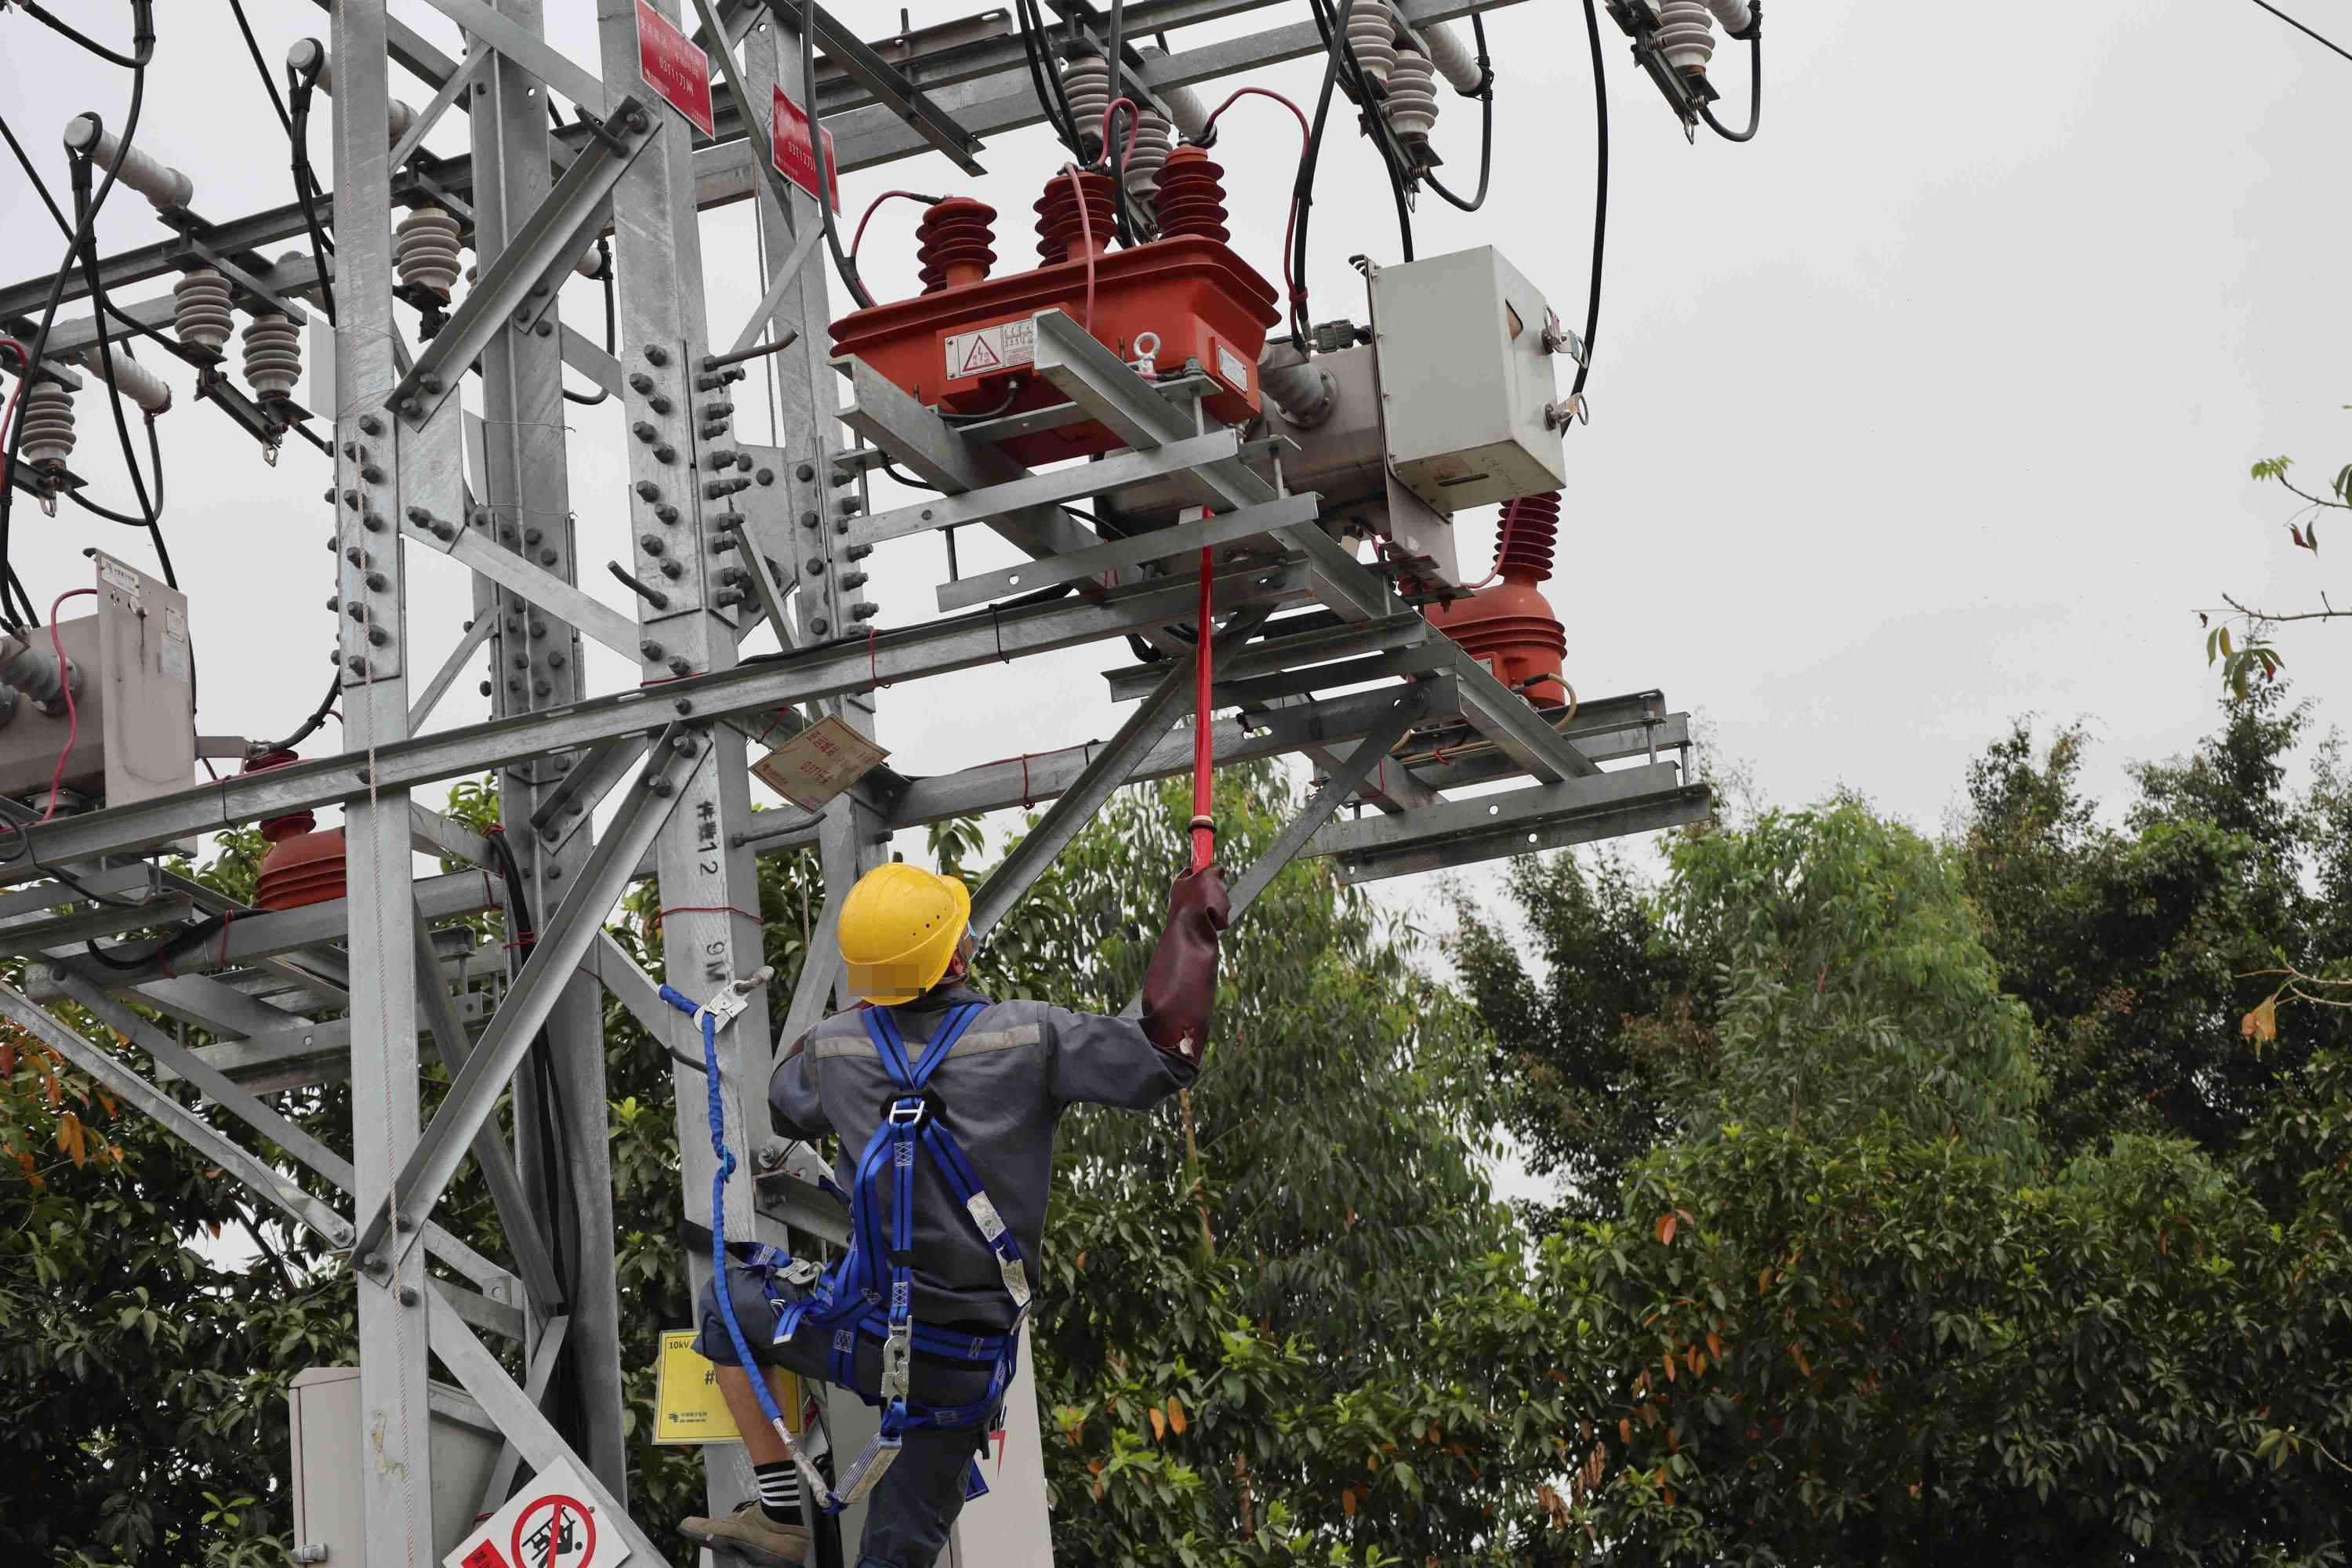downsuit: (690, 1290, 1022, 1568)
upsuit: (766, 998, 1148, 1288)
wrongbottom: (700, 1295, 805, 1479)
